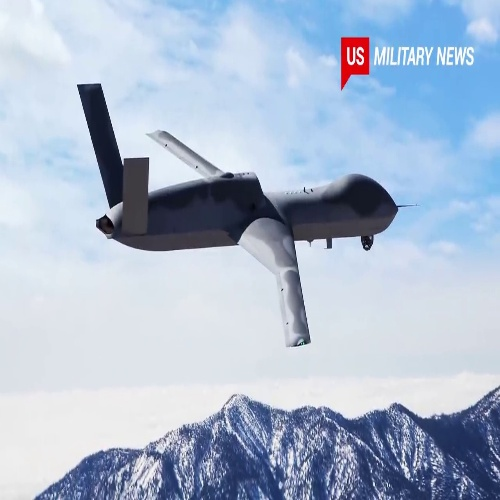uav133: (74, 81, 402, 347)
